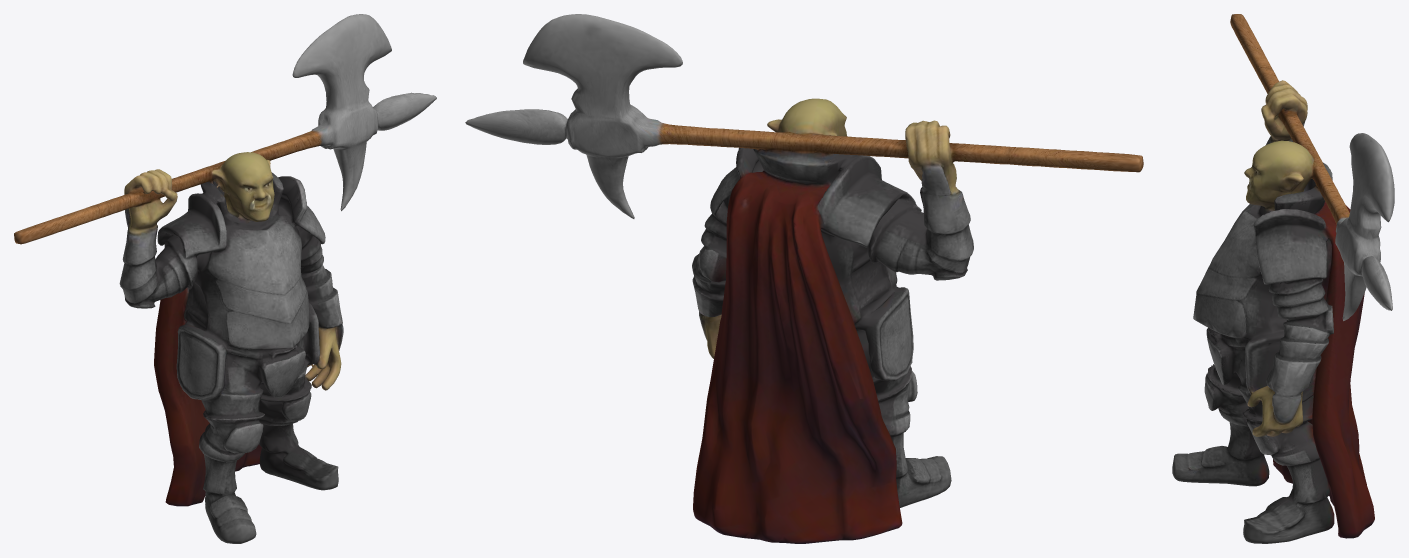
File: MZ4250 - Ogre in Plate Armor with Halberd.glb
3 renders of one model, left to right at view 1: azimuth 30°, elevation 25°; view 2: azimuth 150°, elevation 25°; view 3: azimuth 270°, elevation 25°, orthographic. The views are drawn at different scales.
Parts seen in each view (by area): view 1: plate_halberd_low.001; view 2: plate_halberd_low.001; view 3: plate_halberd_low.001.
Boxes of the visible parts, <box> form: plate_halberd_low.001: <box>14,14,436,543</box>; plate_halberd_low.001: <box>465,14,1143,543</box>; plate_halberd_low.001: <box>1172,14,1394,543</box>.
Bounding box in the file's own units: 9.99 × 7.98 × 3.66.
Materials: 1 (1 with a texture image).
